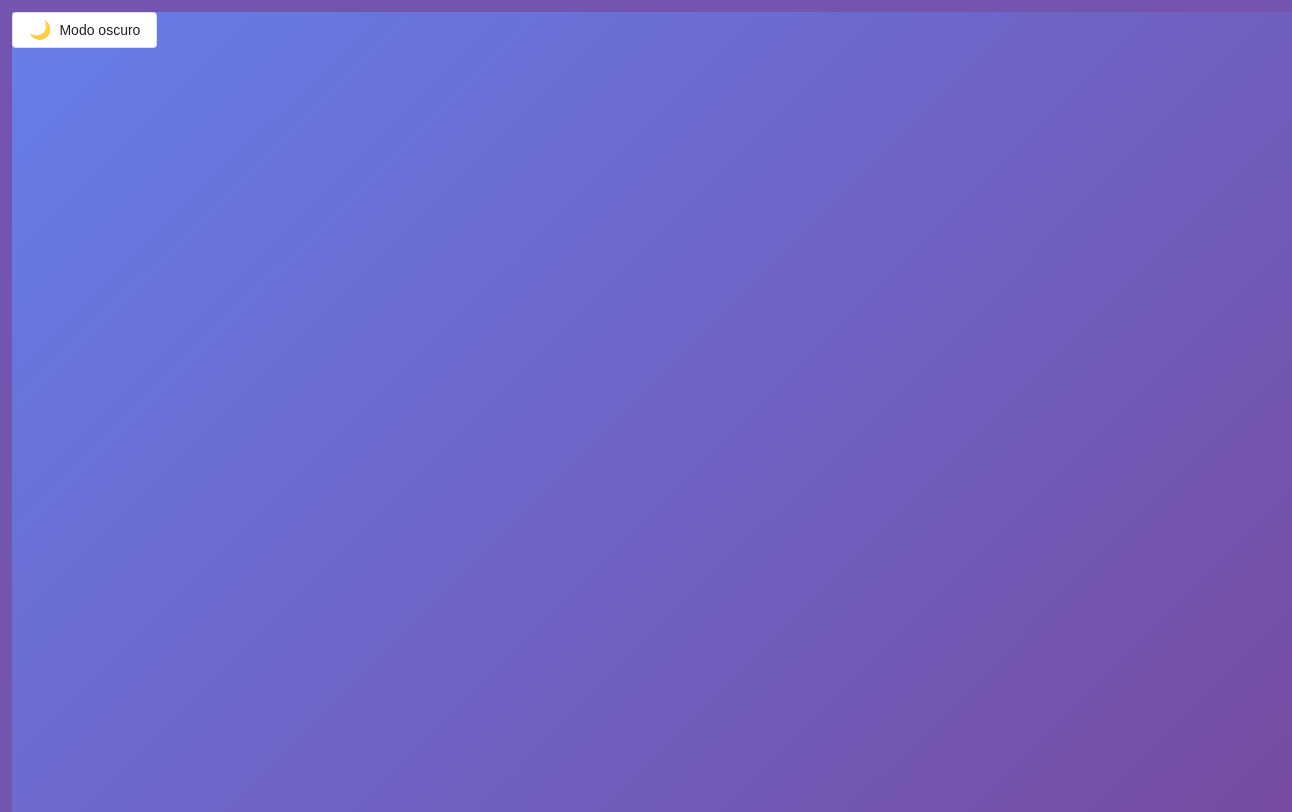
Test: ThemeToggle › should toggle theme when clicked
Click the button at (85, 30), box x1=12 y1=12 x2=157 y2=48
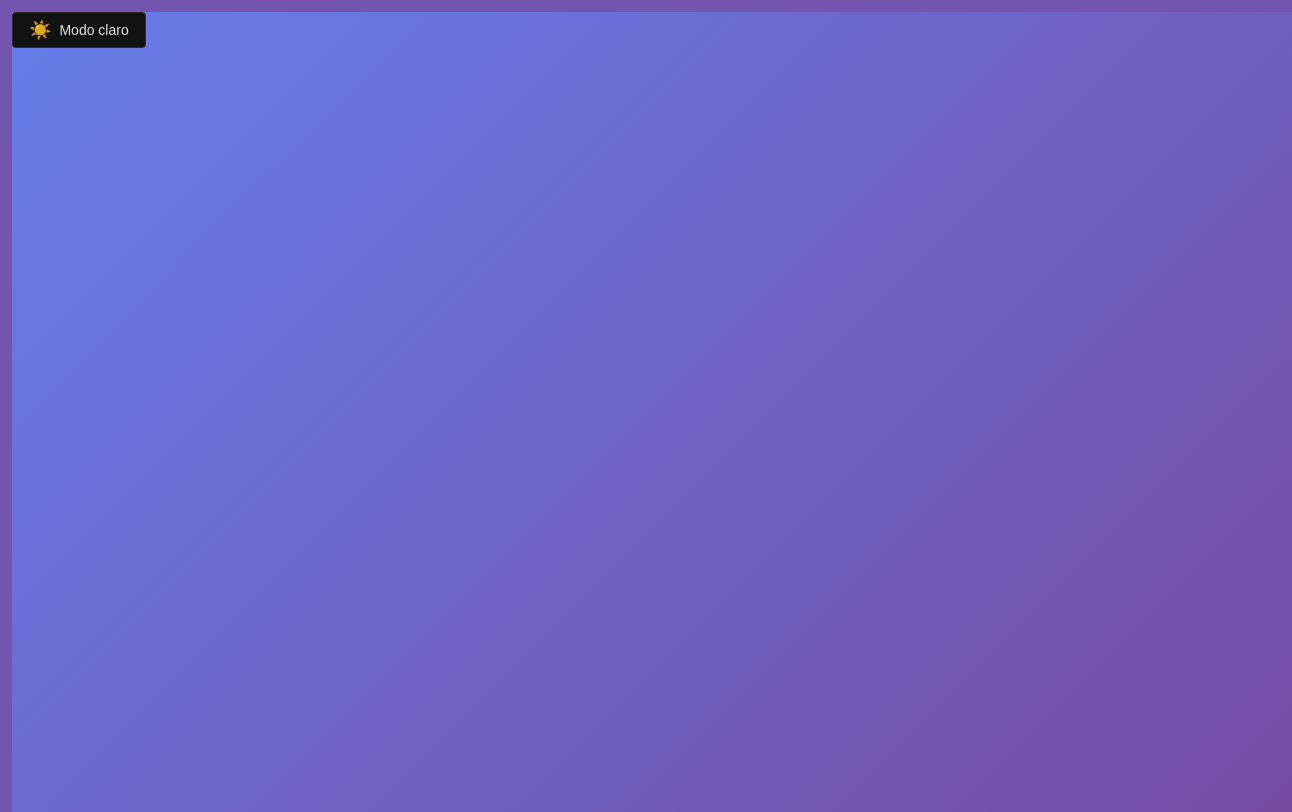
Check: the icon "☀️" is shown, box x1=29 y1=21 x2=52 y2=39
Check: the text "Modo claro" is shown, box x1=60 y1=22 x2=129 y2=38
